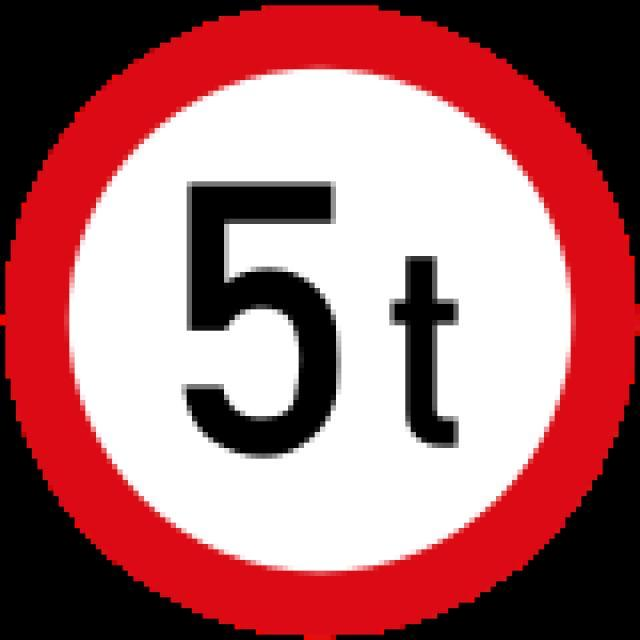Weight limit-5ton: (0, 5, 640, 640)
